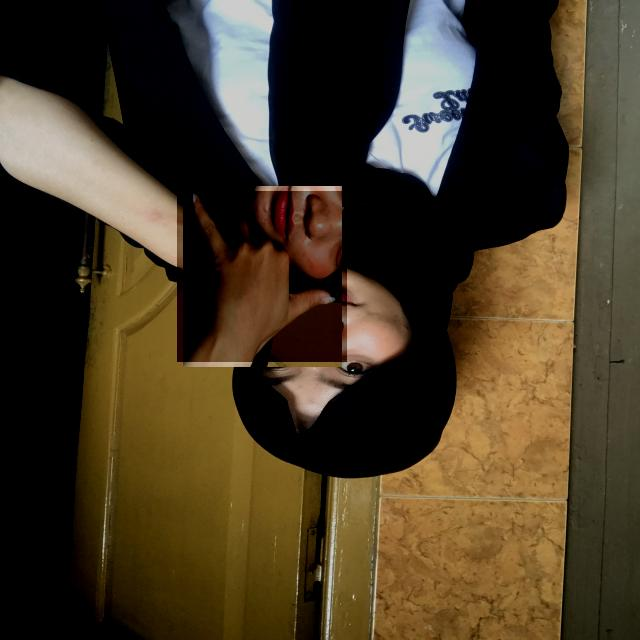telpon: (177, 191, 347, 362)
